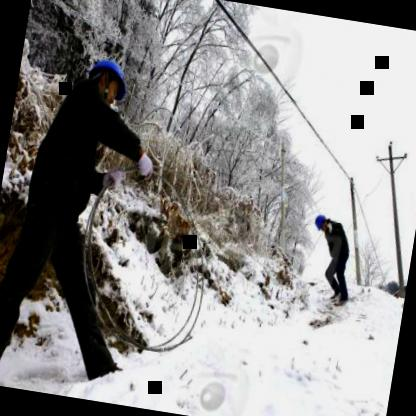helmet: (80, 50, 134, 110), (312, 209, 331, 233)
